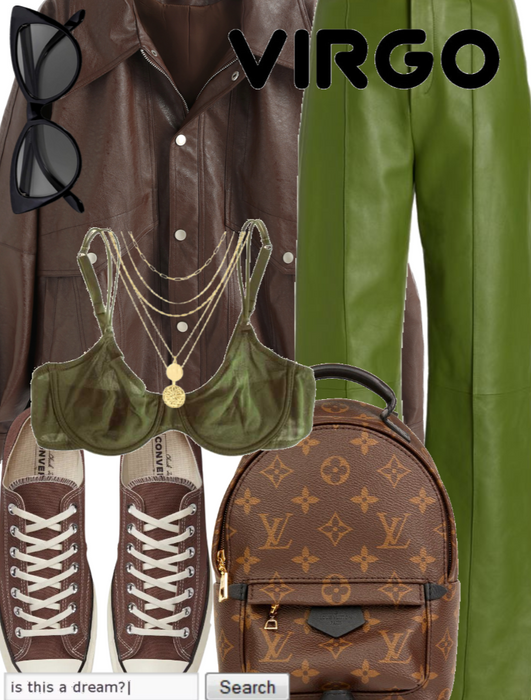аксесуары: (5, 4, 85, 221)
кроссовки: (7, 403, 207, 677)
рюкзак: (218, 368, 470, 699)
штаны: (380, 1, 531, 700)
